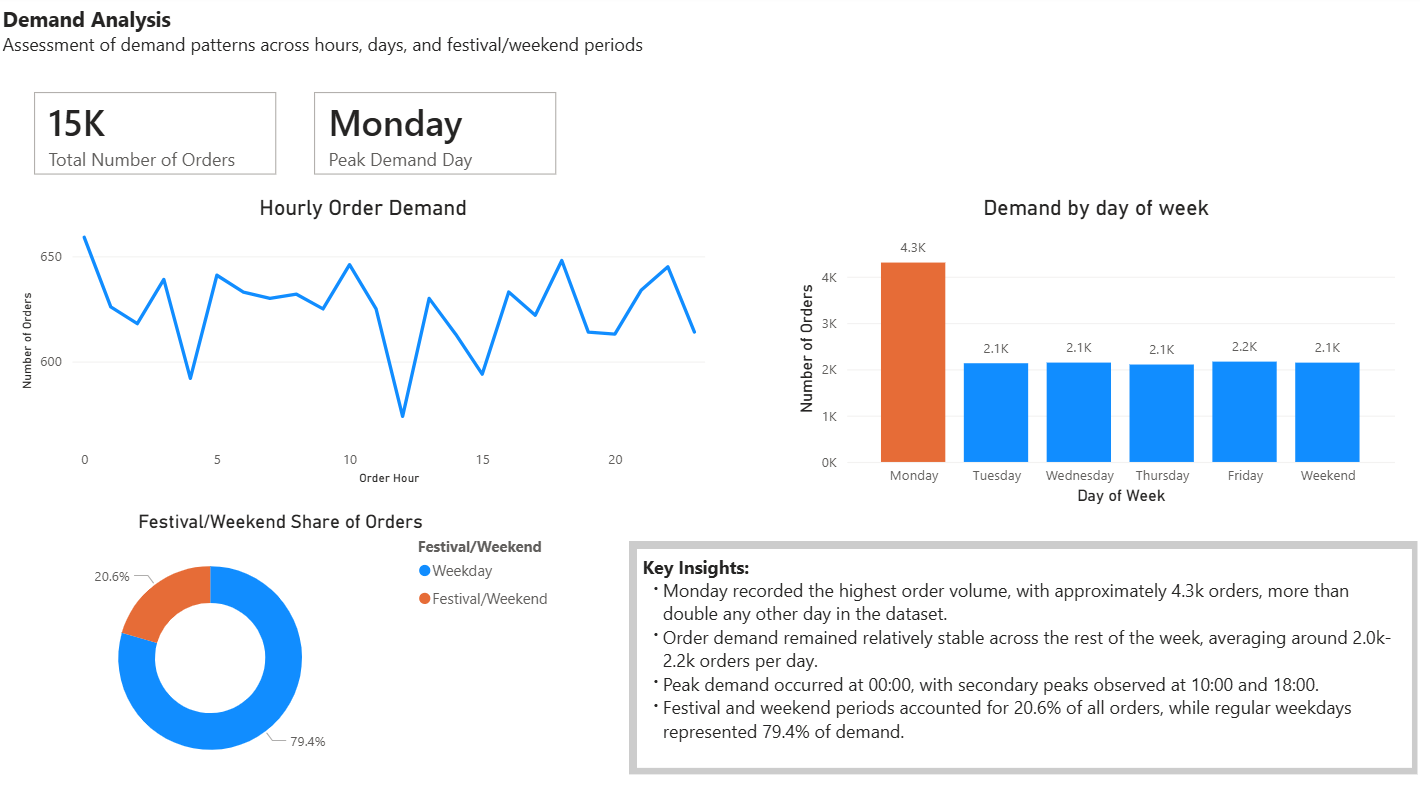

The page's visual inventory and layout, read from the dashboard file:
{"tool":"powerbi","page":{"name":"Demand Analysis","canvas":[1280,720],"ordinal":4},"visuals":[{"type":"shape","box":[566.1,488.3,707.1,209.1],"z":0},{"type":"cardVisual","fields":{"Data":["food_delivery_data.Total Orders"]},"box":[16.5,69.1,251.9,108.9],"z":1000},{"type":"lineChart","title":"Hourly Order Demand","fields":{"Y":["food_delivery_data.Total Orders"],"Category":["food_delivery_data.order_hour"]},"box":[16.5,178,623.5,263.6],"z":2000},{"type":"clusteredColumnChart","title":"Demand by day of week","fields":{"Y":["CountNonNull(food_delivery_data.order_id)"],"Category":["food_delivery_data.Day of Week Name"]},"box":[712,178,544.7,282.1],"z":3000},{"type":"cardVisual","fields":{"Data":["food_delivery_data.Peak Demand Day"]},"box":[266.5,69.1,251.9,108.9],"z":4000},{"type":"donutChart","title":"Festival/Weekend Share of Orders","fields":{"Y":["CountNonNull(food_delivery_data.order_id)"],"Category":["food_delivery_data.Festival Weekend Status"]},"box":[0,460.1,507.7,246.1],"z":5000},{"type":"textbox","box":[0,2.9,631.2,81.7],"z":6000},{"type":"textbox","box":[572.9,495.1,694.5,196.5],"z":7000}]}

Visuals, with their boxes in screenshot pixels (x1, y1, x2, y2), scaled from the page's 1280x720 canvas onto the 1420x795 screenshot:
shape: 628:539:1412:770
cardVisual - food_delivery_data.Total Orders: 18:76:298:197
"Hourly Order Demand" lineChart: 18:197:710:488
"Demand by day of week" clusteredColumnChart: 790:197:1394:508
cardVisual - food_delivery_data.Peak Demand Day: 296:76:575:197
"Festival/Weekend Share of Orders" donutChart: 0:508:563:780
textbox: 0:3:700:93
textbox: 636:547:1406:764
